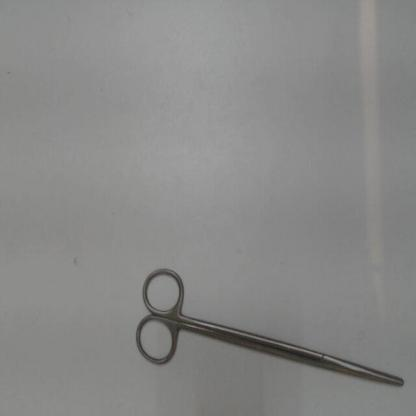9 Metzenbaum Scissors: (130, 260, 410, 393)
